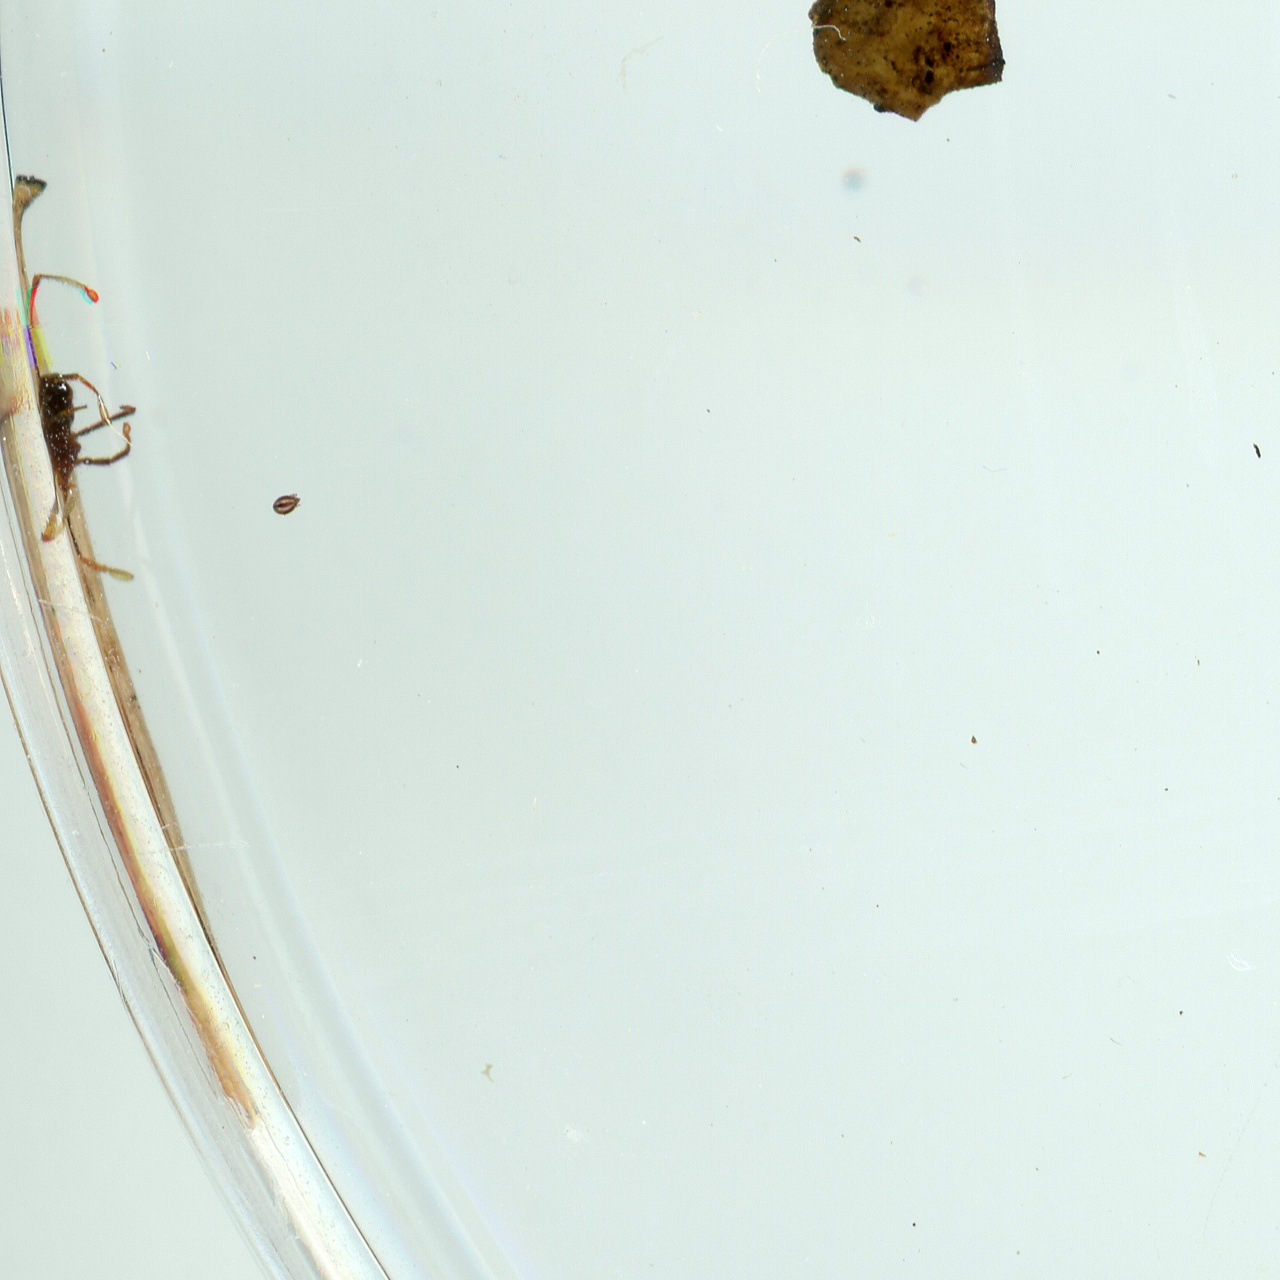arthropod: (26, 261, 148, 586), (270, 490, 304, 517)
